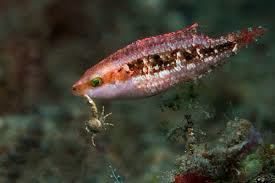bera: (66, 13, 269, 119)
